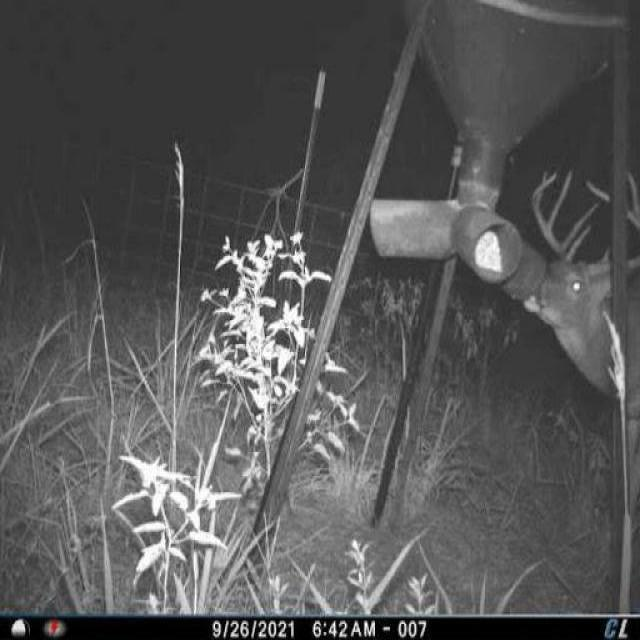deer: (511, 160, 640, 575)
